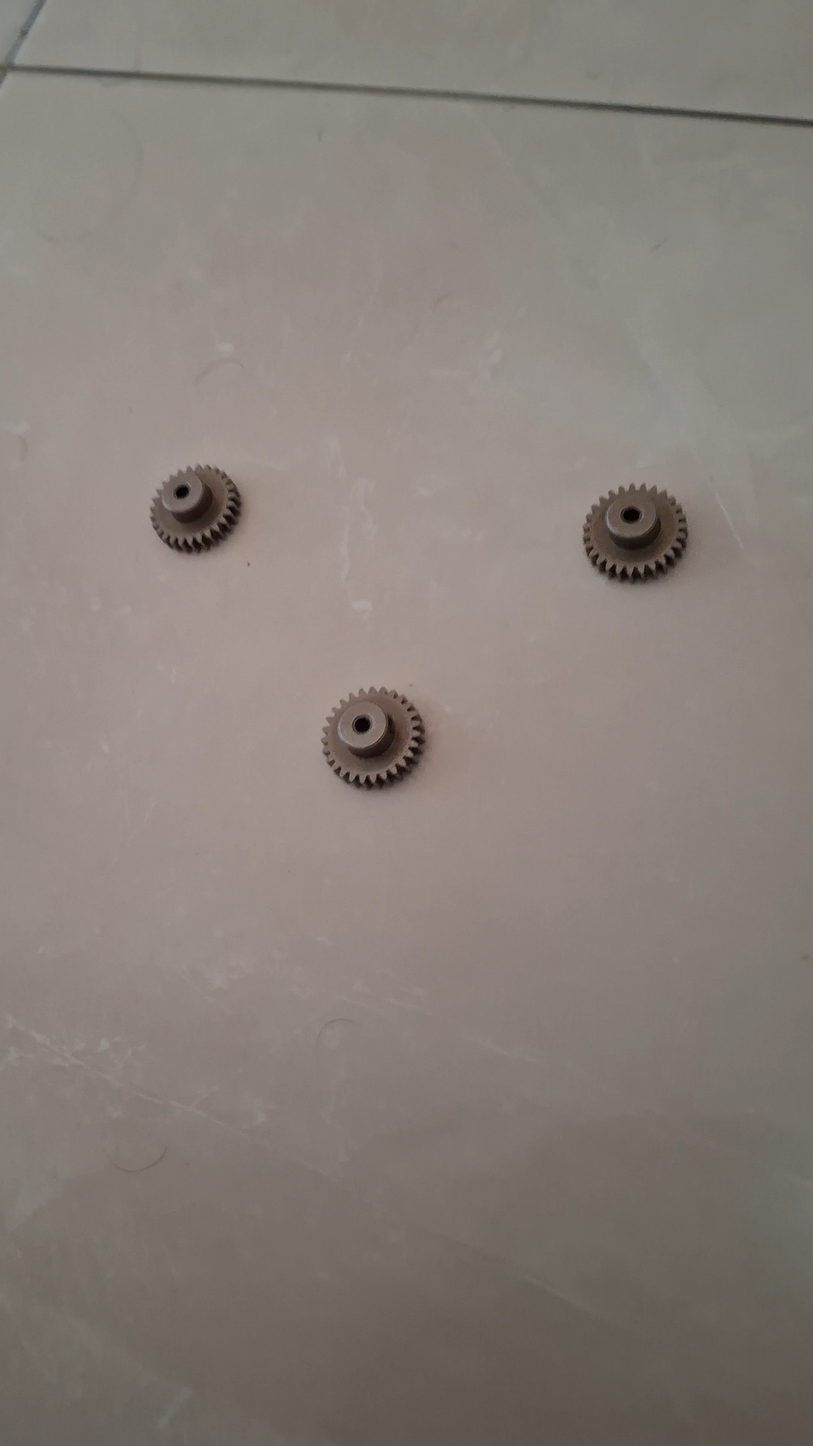spur gear: (323, 689, 424, 787), (583, 485, 687, 580), (151, 465, 241, 552)
